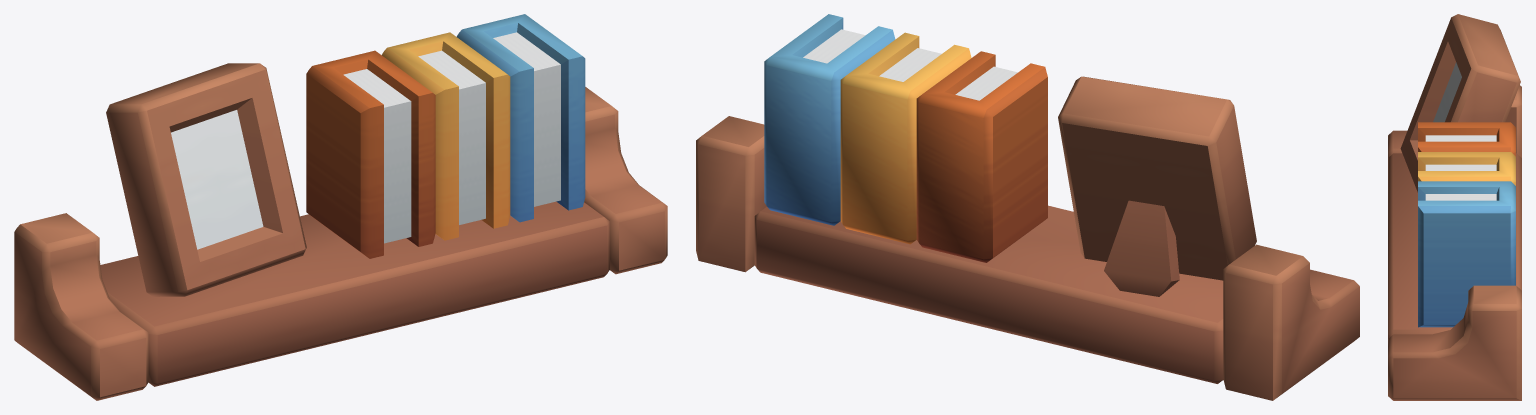
File: shelf-b-large-decorated.glb
3 renders of one model, left to right at view 1: azimuth 30°, elevation 25°; view 2: azimuth 150°, elevation 25°; view 3: azimuth 270°, elevation 25°, orthographic. The views are drawn at different scales.
Parts seen in each view (by area): view 1: shelf_B_large_decorated; view 2: shelf_B_large_decorated; view 3: shelf_B_large_decorated.
Boxes of the visible parts, box(x1,y1,x2,y2) form: shelf_B_large_decorated: box(14, 14, 667, 400); shelf_B_large_decorated: box(696, 14, 1359, 400); shelf_B_large_decorated: box(1388, 14, 1521, 400).
Size of the model in its own units: 2 by 0.8175 by 0.5.
1 material, 1 textured.
